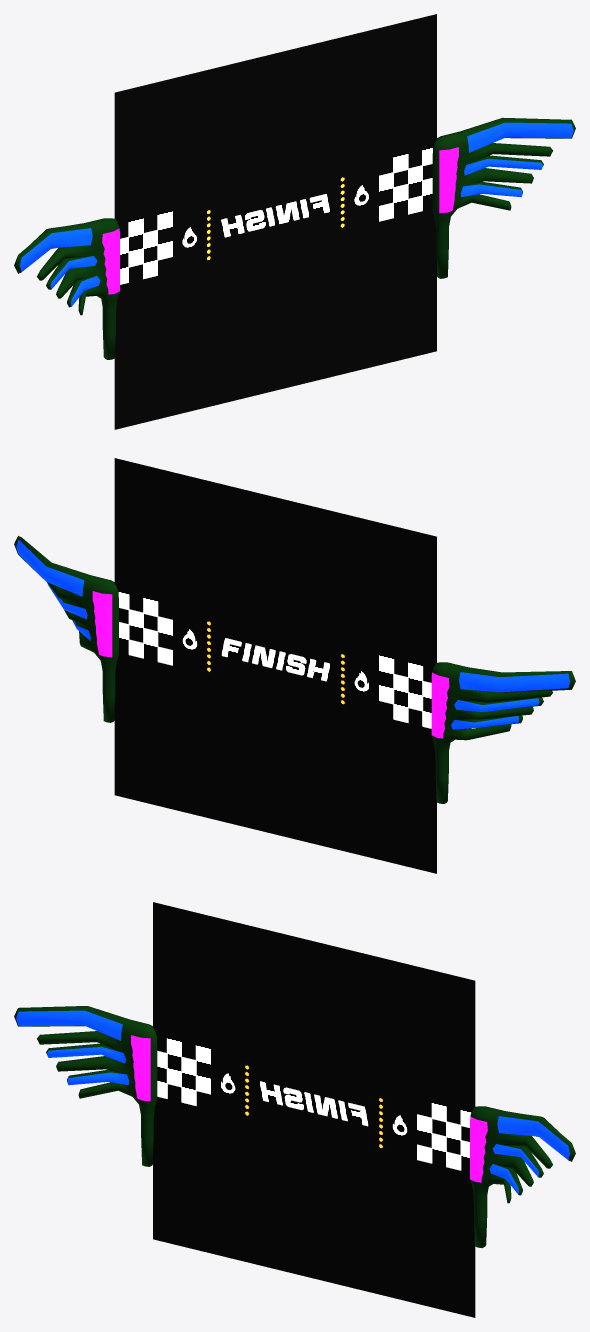
The model's file is track4FinishFlag.glb.
The picture shows the model from 3 angles, top to bottom: view 1: azimuth 30°, elevation 25°; view 2: azimuth 150°, elevation 25°; view 3: azimuth 330°, elevation 25°; orthographic projection.
Parts seen in each view (by area): view 1: Cube.016; view 2: Cube.016; view 3: Cube.016.
Boxes of the visible parts, left/top/right/bottom form: Cube.016: left=14, top=14, right=575, bottom=429; Cube.016: left=14, top=458, right=575, bottom=873; Cube.016: left=14, top=902, right=575, bottom=1317.
Size of the model in its own units: 6.98 by 4 by 0.5687.
4 materials, 1 textured.
